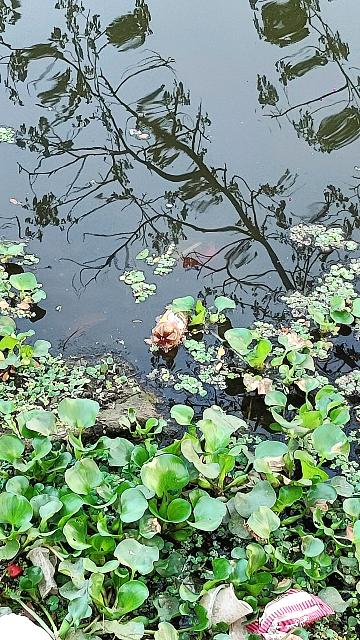bottle: (150, 302, 190, 357)
